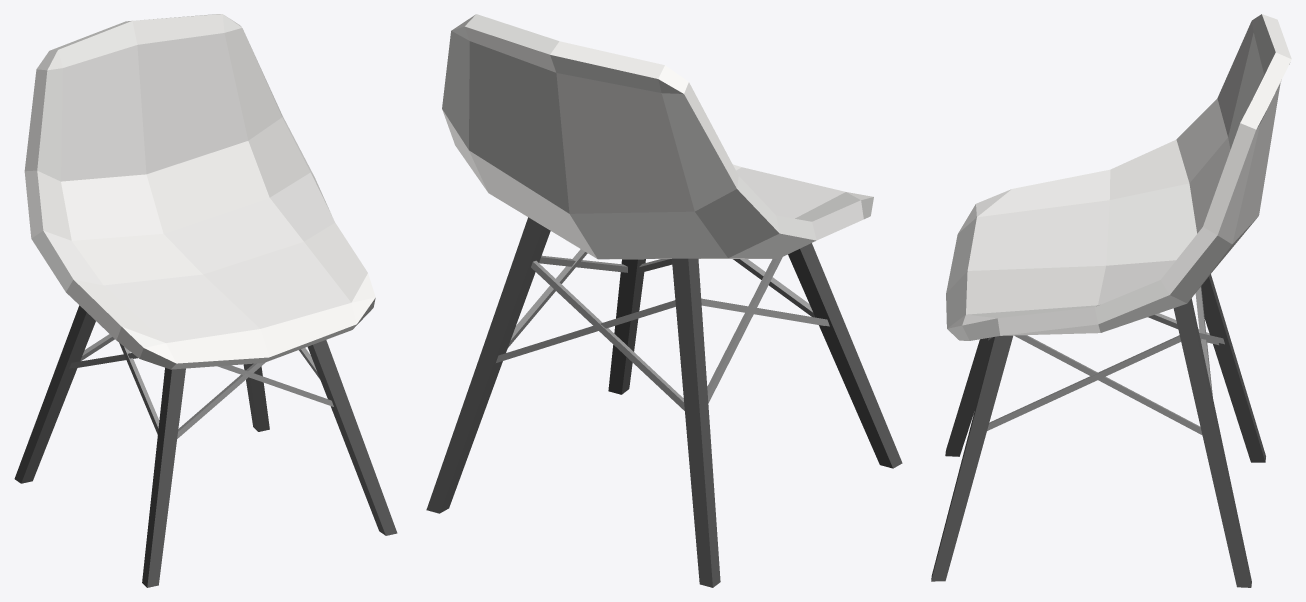
The model's file is Chair_4_231109.glb.
3 renders of one model, left to right at view 1: azimuth 30°, elevation 25°; view 2: azimuth 150°, elevation 25°; view 3: azimuth 270°, elevation 25°, orthographic. The views are drawn at different scales.
Visible parts, largest first — view 1: Chair_4; view 2: Chair_4; view 3: Chair_4.
Part boxes in pixels (x1,y1,x2,y2): Chair_4: (14,14,397,587); Chair_4: (426,14,902,587); Chair_4: (931,14,1291,587).
Size of the model in its own units: 0.7684 by 1.13 by 0.7871.
1 material, 1 textured.
